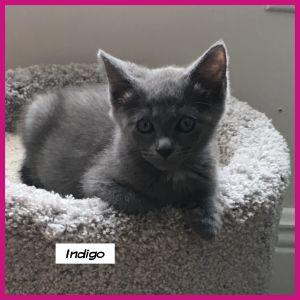rblue: (91, 41, 241, 190)
